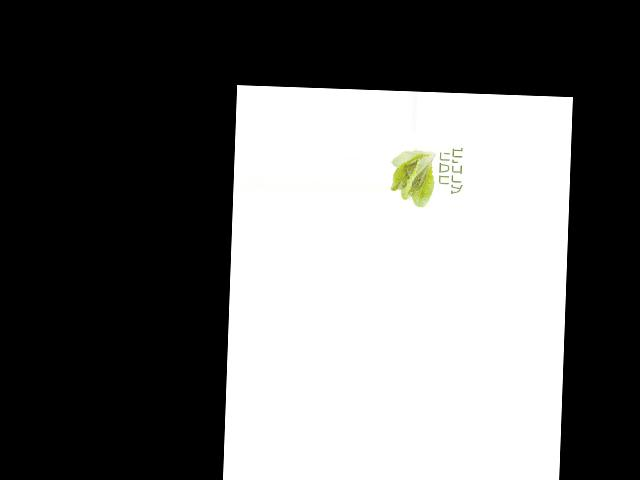lettuce: (390, 145, 441, 208)
